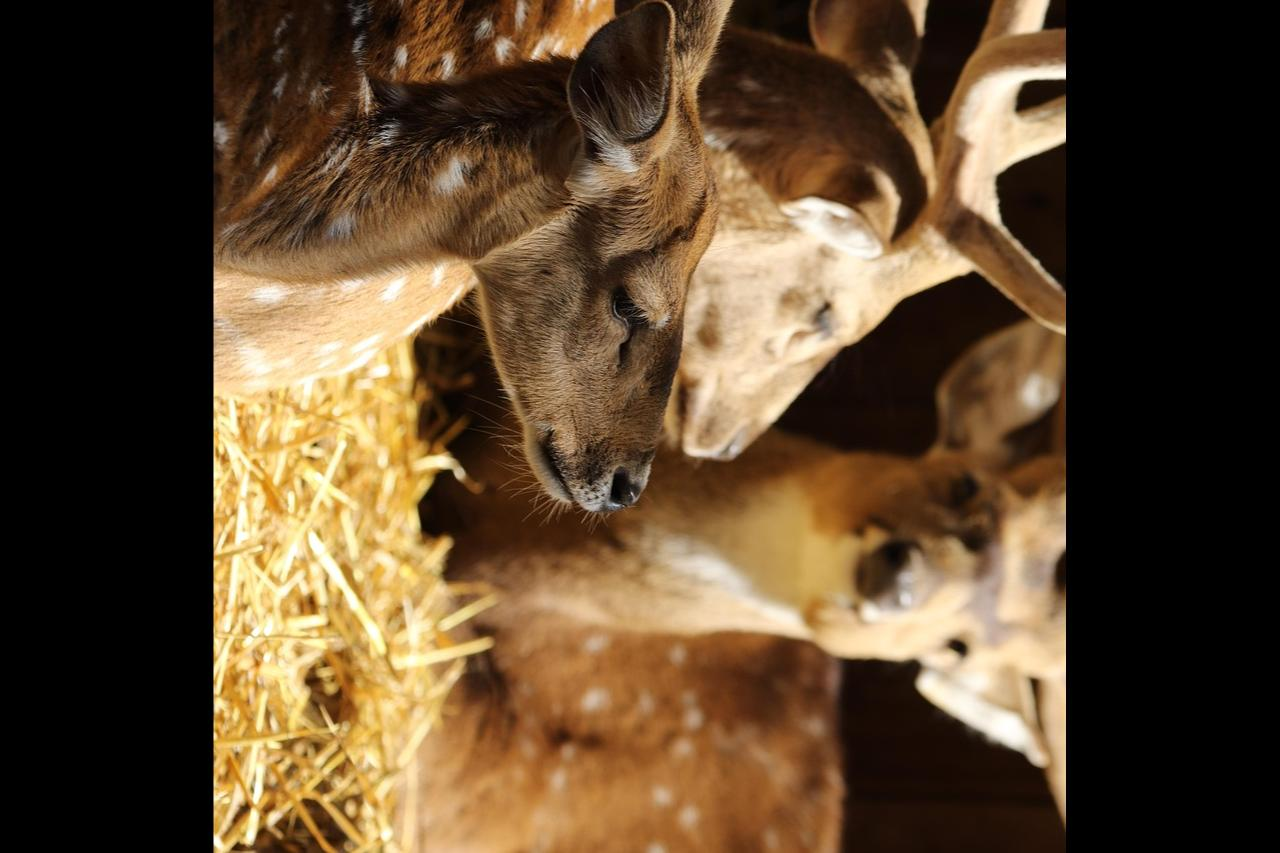Non_Gorille: (213, 0, 1066, 853)
